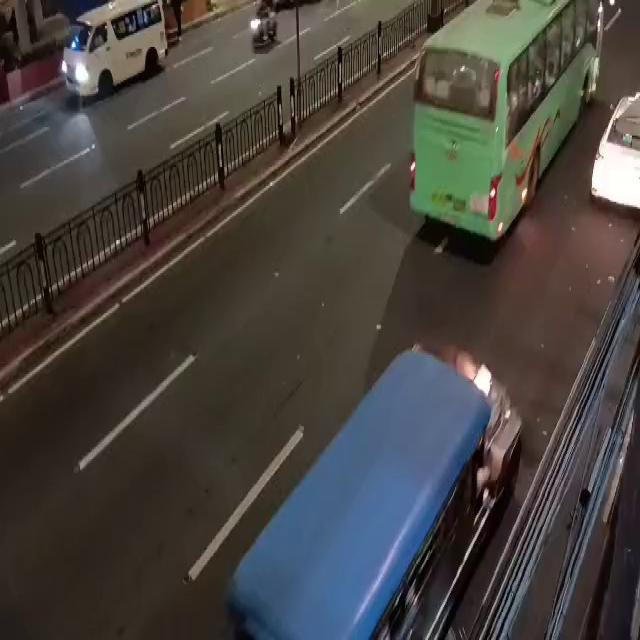bus: (403, 6, 611, 270)
car: (52, 6, 172, 97)
jeepney: (216, 328, 539, 638)
